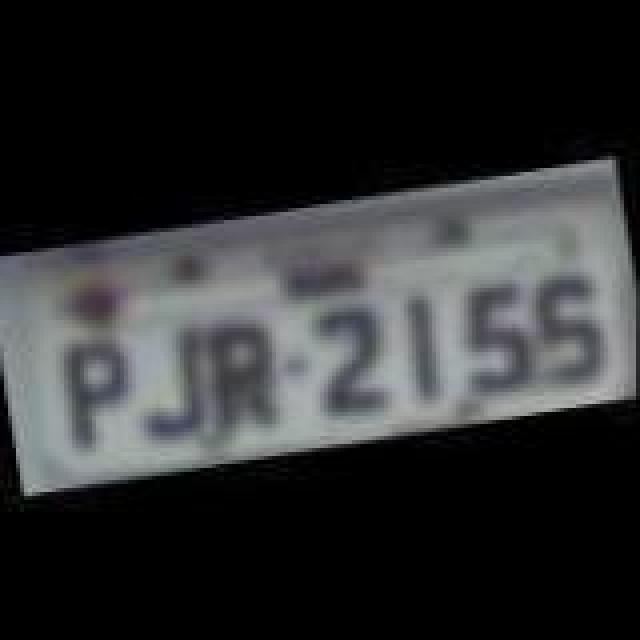1: (394, 278, 450, 402)
2: (304, 296, 396, 424)
5: (520, 264, 612, 388), (450, 272, 538, 396)
J: (118, 318, 214, 446)
P: (50, 334, 138, 454)
R: (196, 310, 288, 438)
